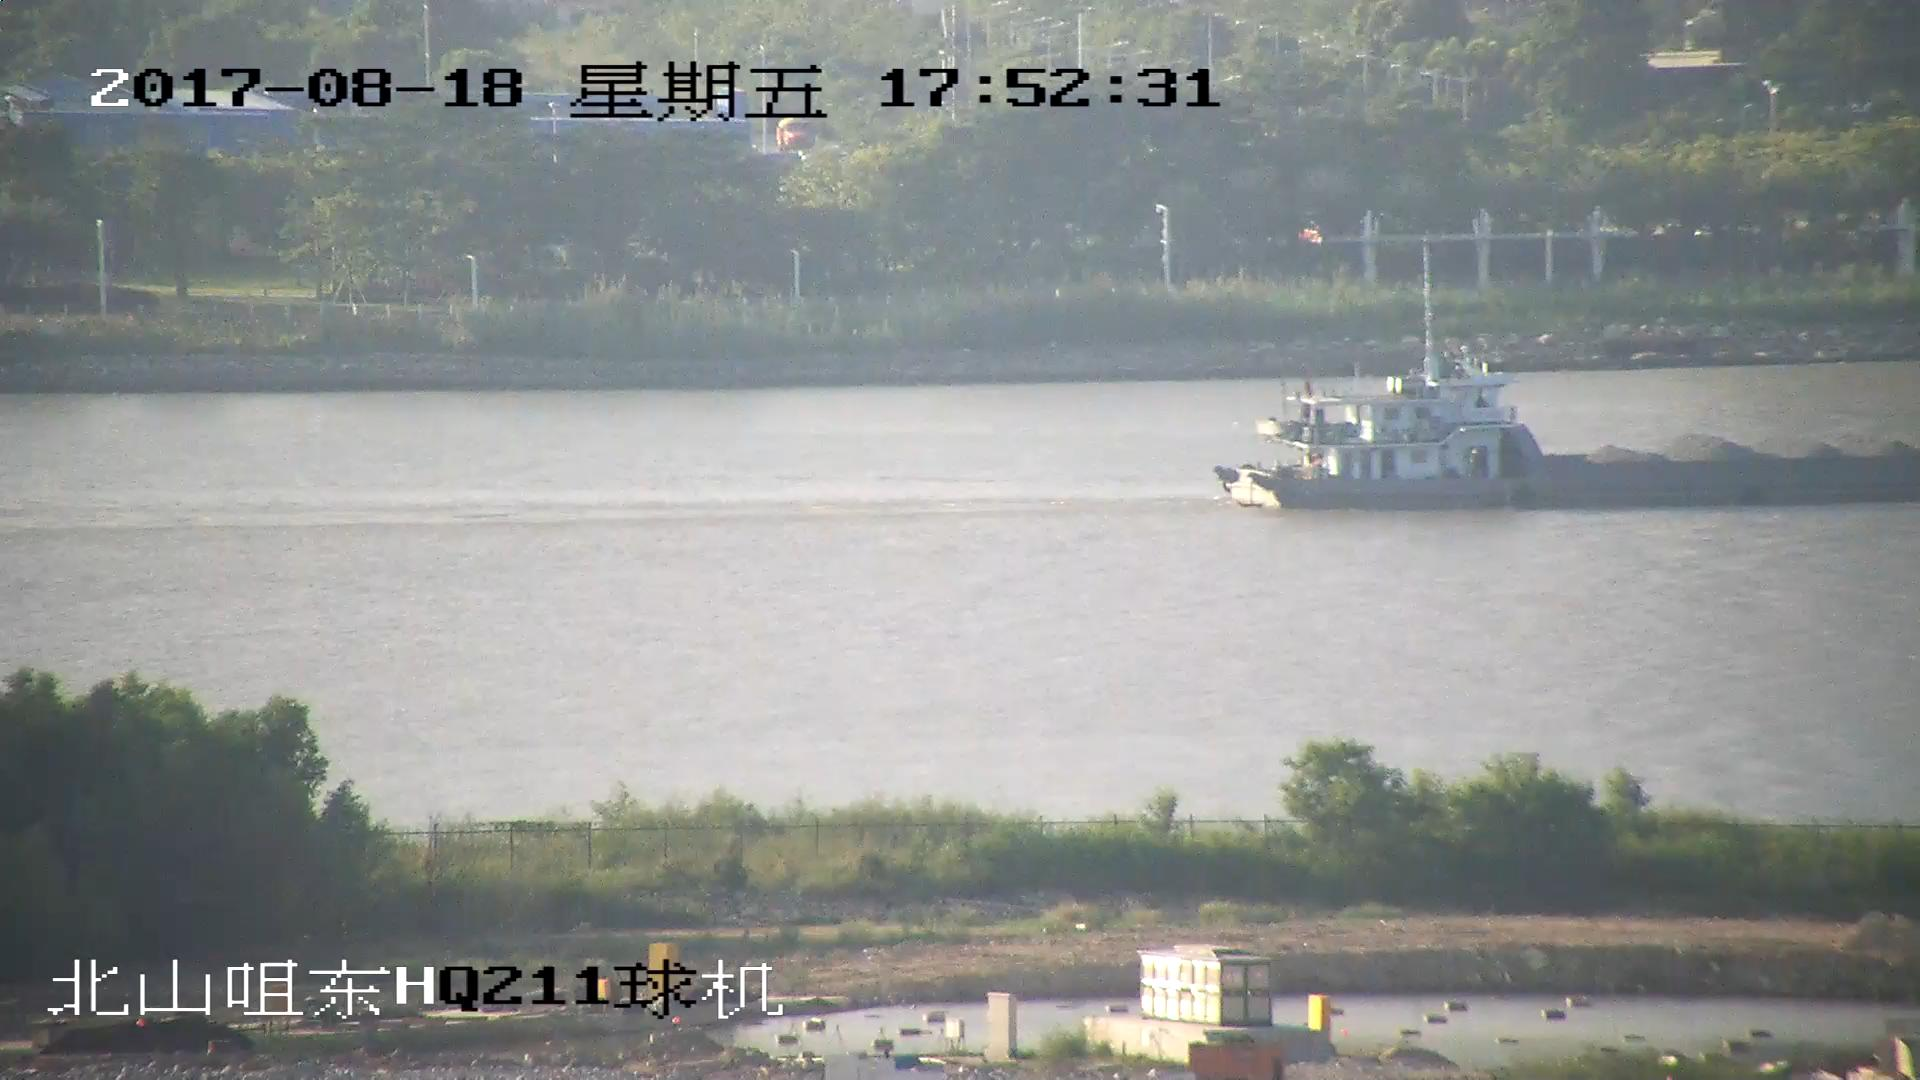ore carrier: (1216, 280, 1920, 509)
